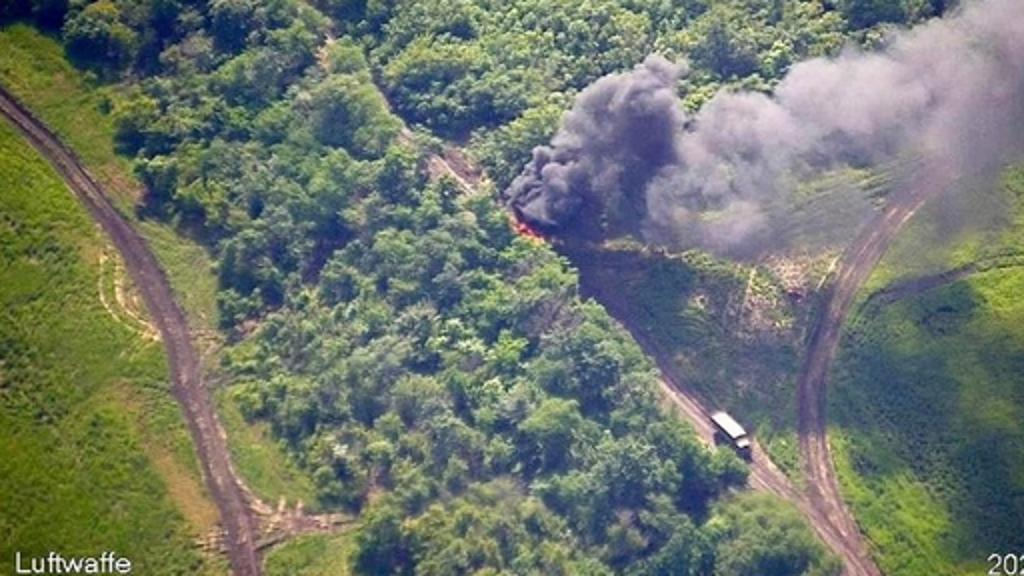TRUCK: (698, 402, 758, 458)
